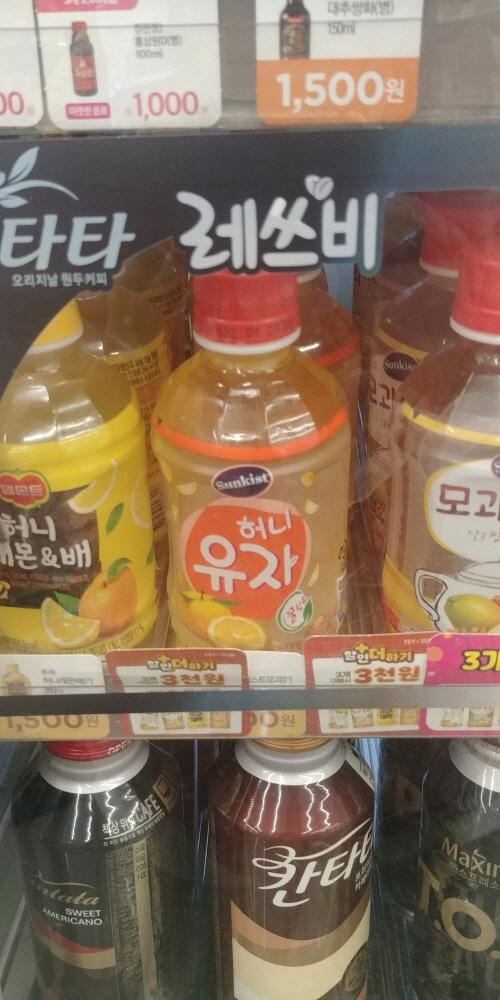honeyyuja: (153, 263, 380, 648)
